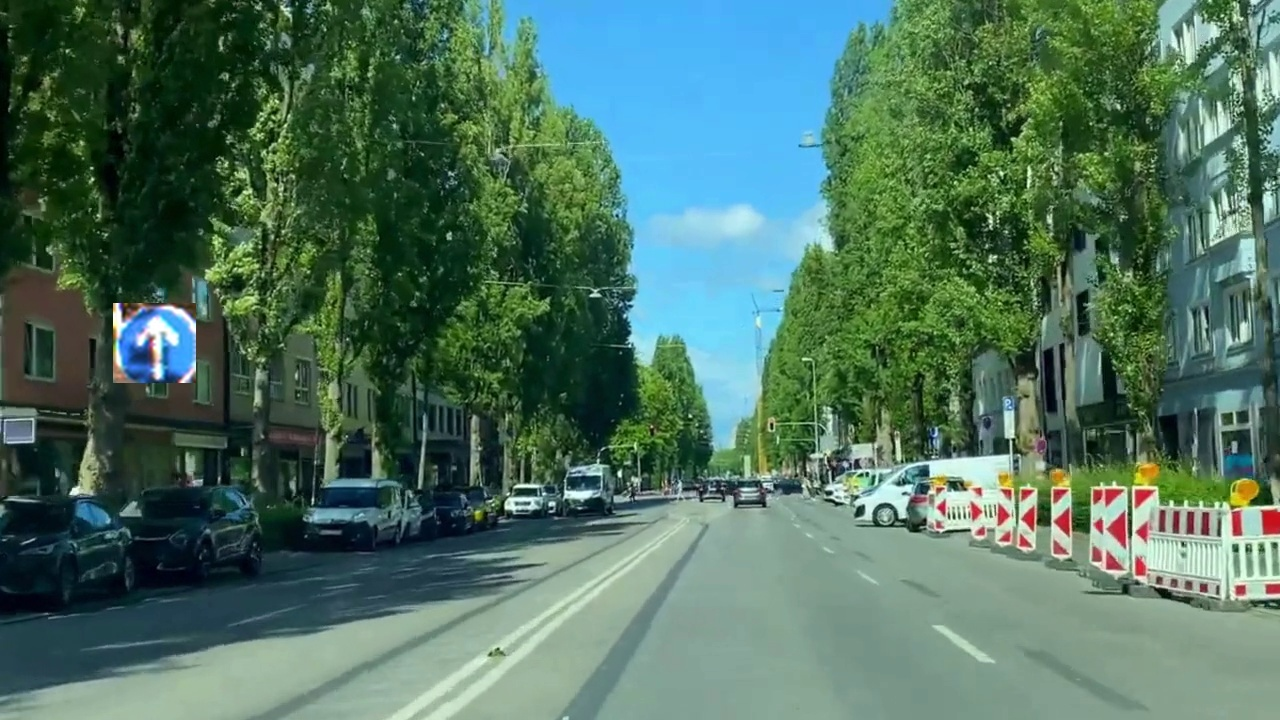Ahead only: (113, 303, 196, 383)
